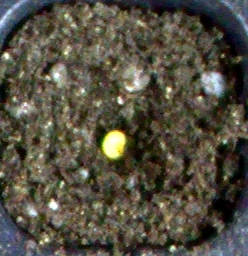pepper seed: (35, 49, 164, 210)
